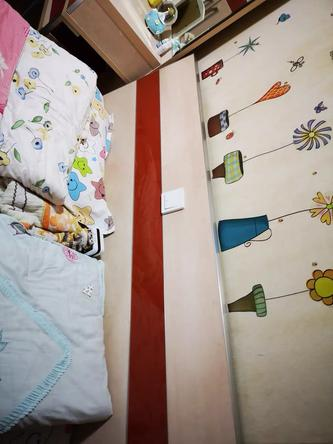switch: (161, 189, 186, 212)
